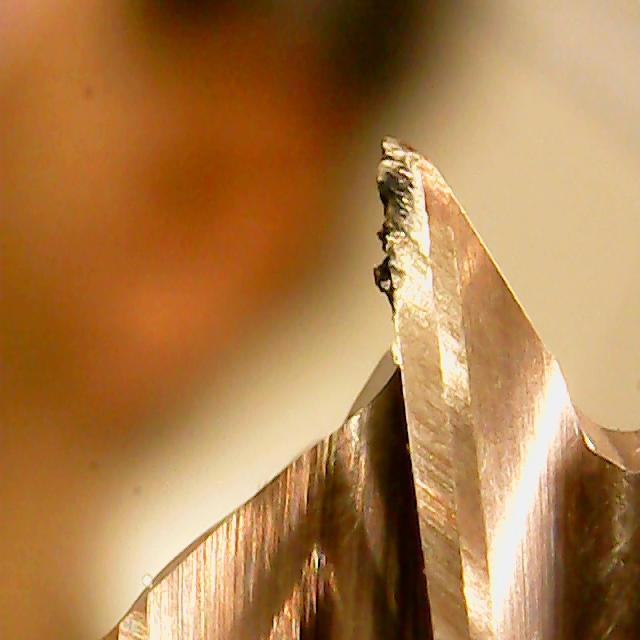Tool-wear-class-1: (361, 125, 472, 478)
